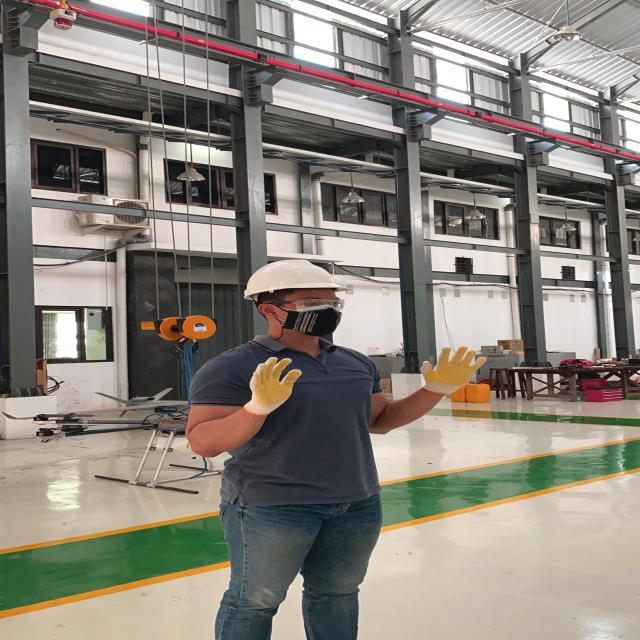face_mask: (281, 296, 351, 339)
glasses: (264, 296, 351, 313)
hand_glove: (411, 343, 494, 398), (240, 352, 308, 419)
head_helmet: (243, 257, 348, 299)
person: (181, 256, 491, 640)
